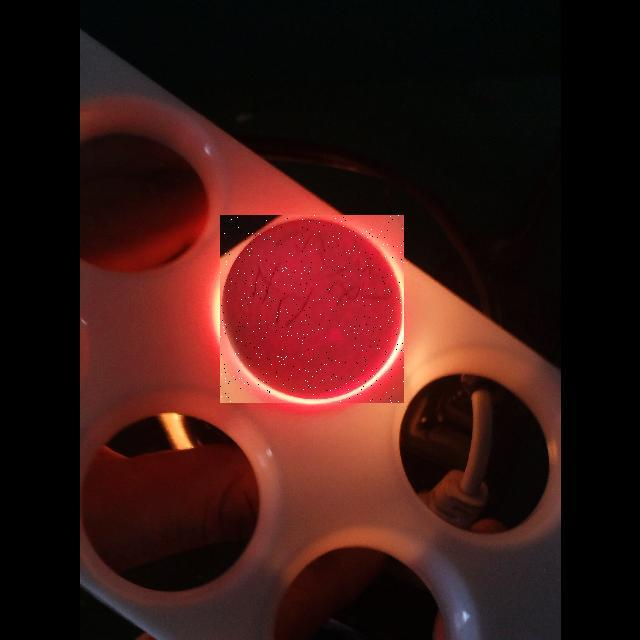Infertile: (220, 215, 404, 403)
